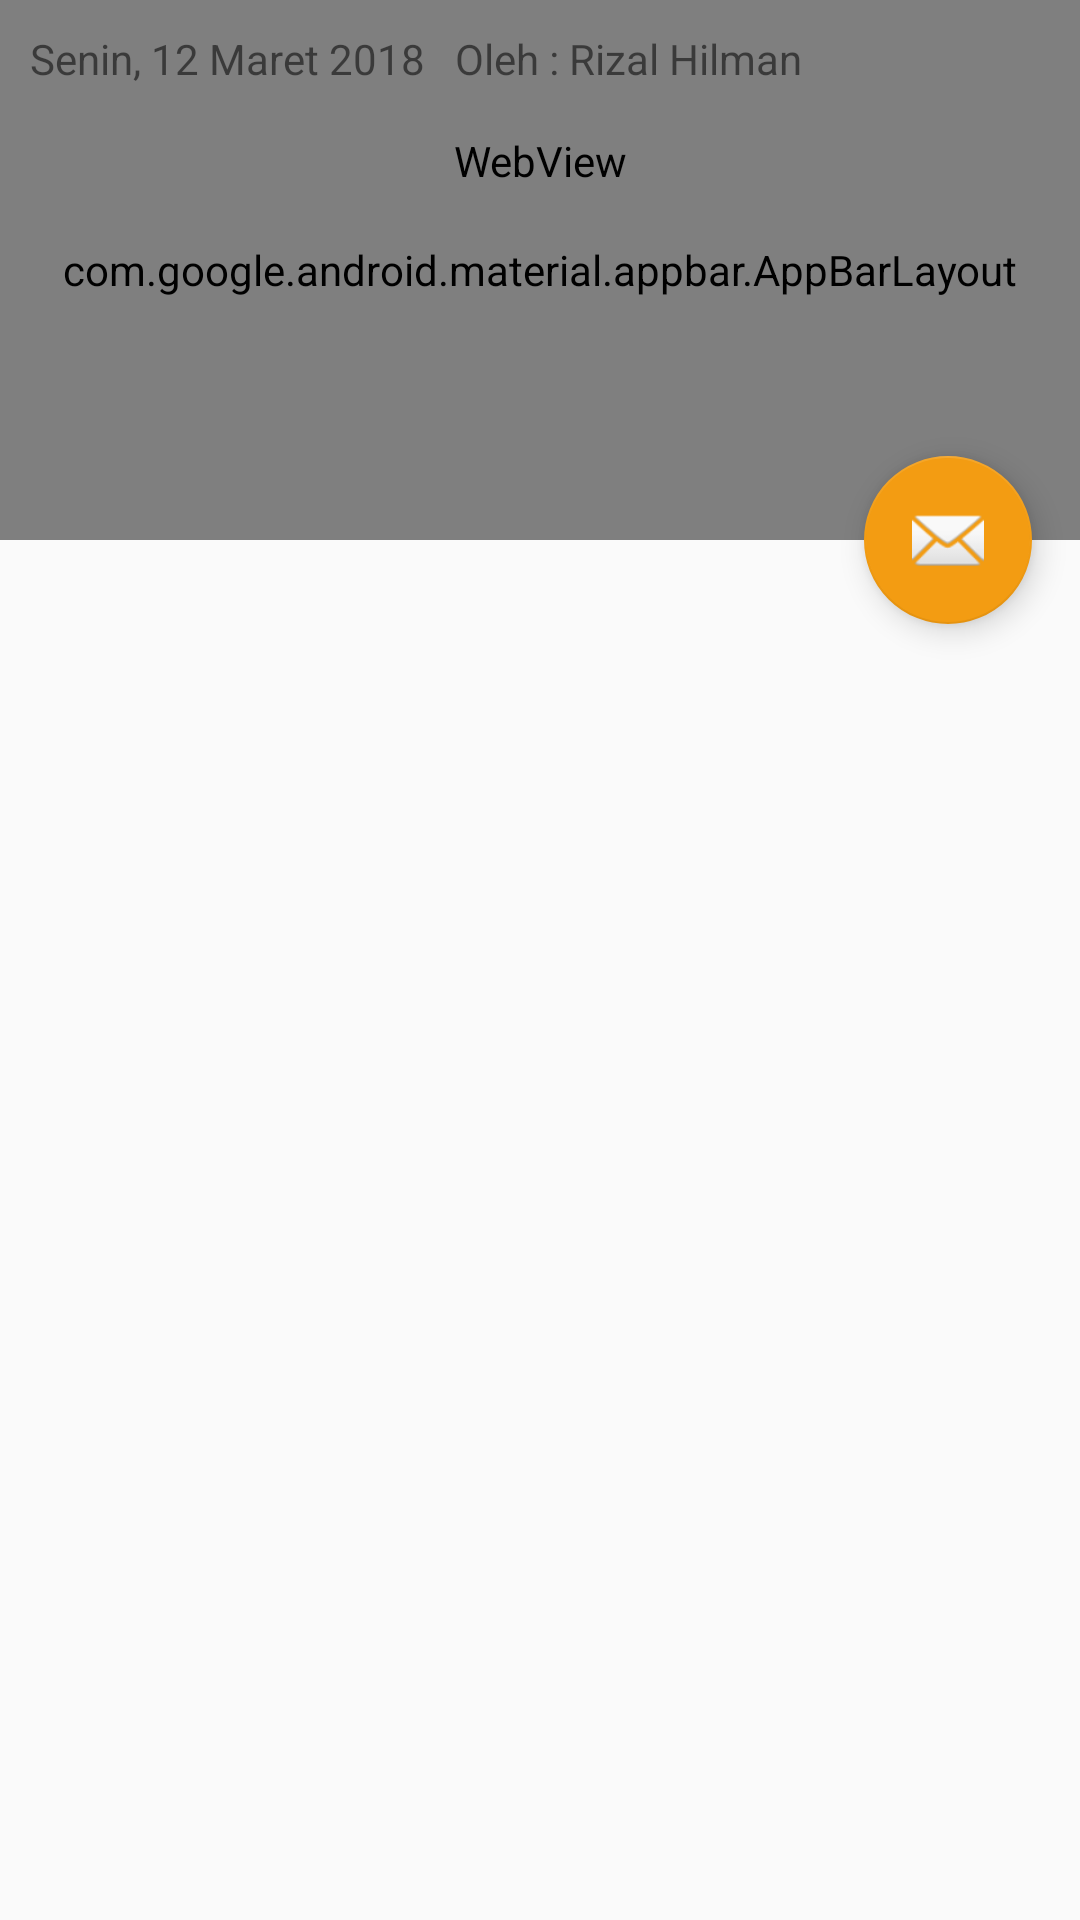

Point at icon controls on the screen. Image size 1080px×1920px, points as (x,y).
email: (948,540)
